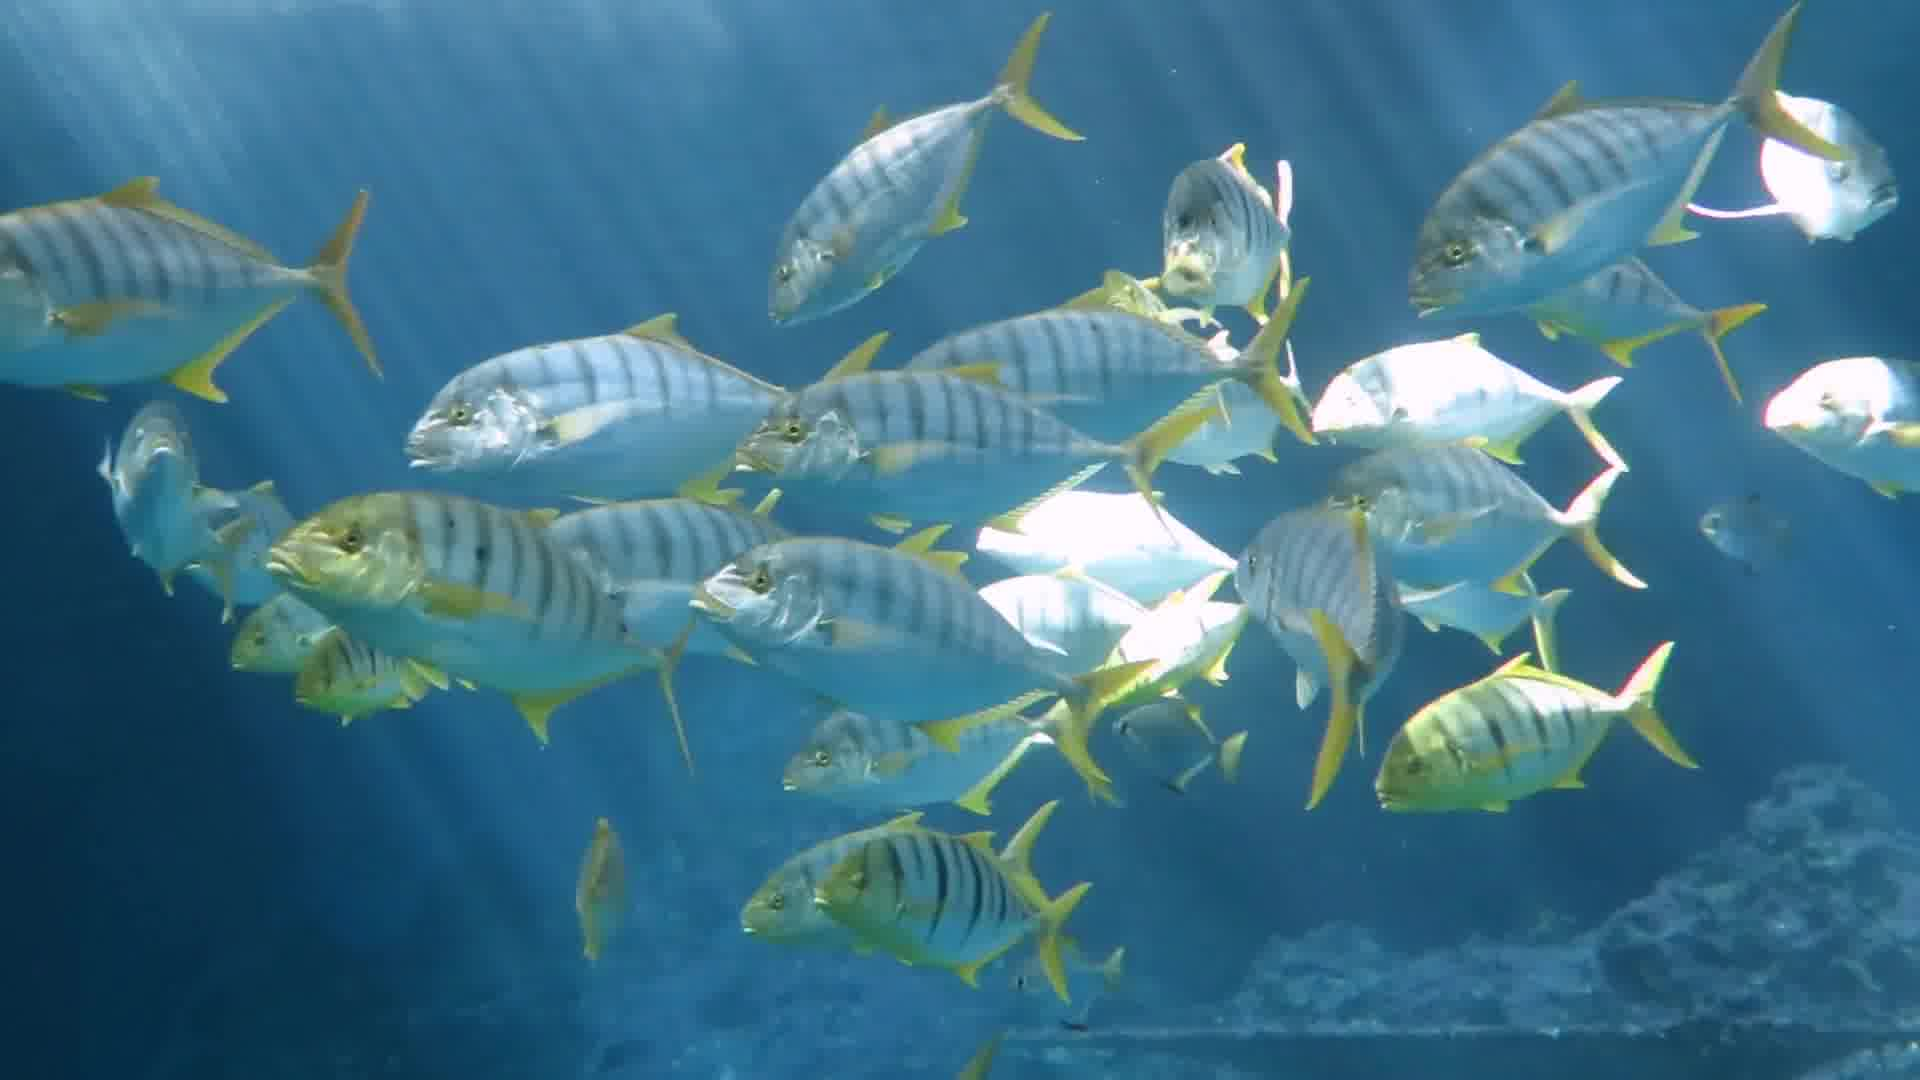Gnathanodon speciosus: (239, 476, 684, 719), (1410, 76, 1800, 324), (761, 29, 1068, 342), (683, 545, 1131, 748), (1, 179, 401, 373), (411, 342, 810, 498), (1367, 651, 1700, 829), (1216, 493, 1414, 738), (802, 851, 1106, 965), (785, 698, 1106, 803), (1750, 347, 1920, 498), (1154, 138, 1305, 305), (84, 415, 207, 568), (729, 843, 796, 956)
